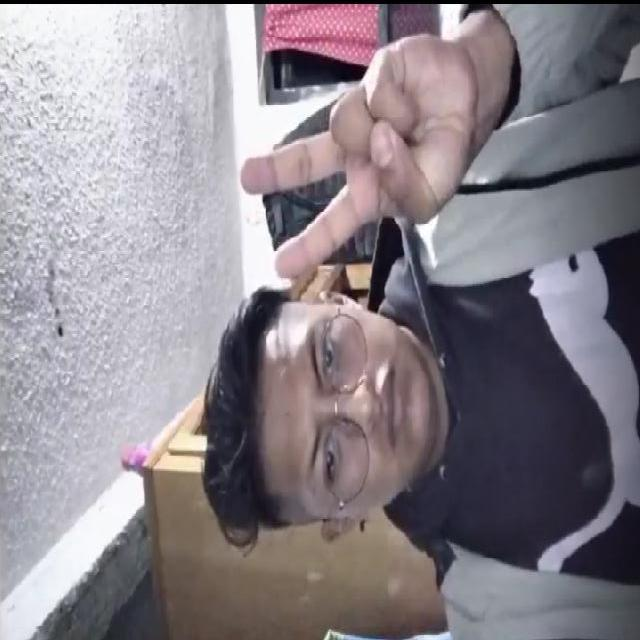V: (245, 14, 521, 302)
